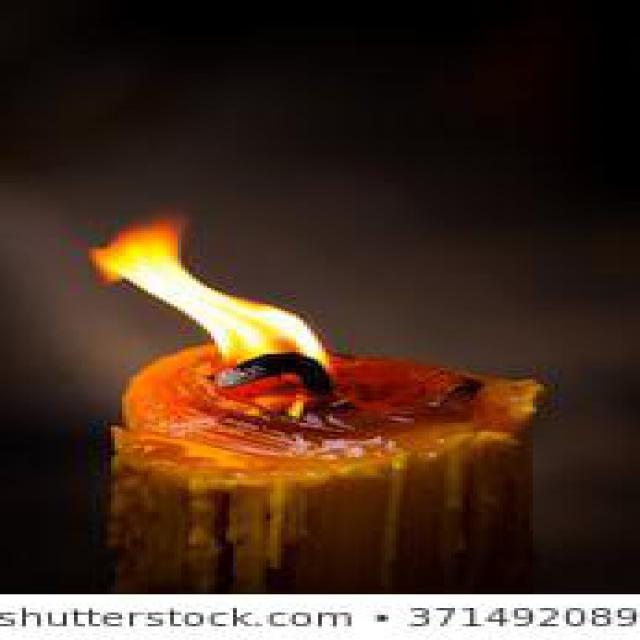Fire: (94, 212, 331, 378)
